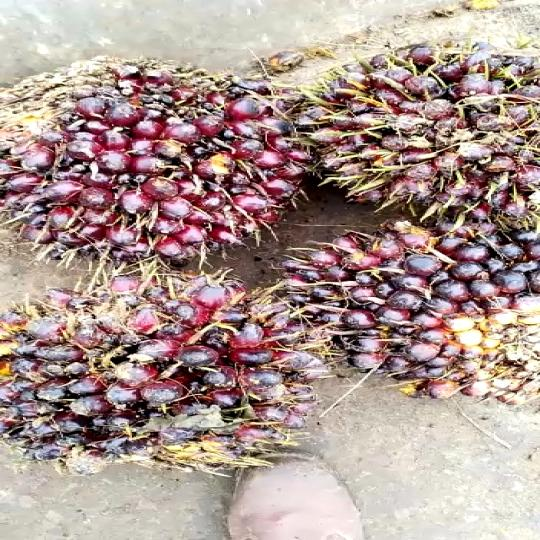kurang masak: (0, 258, 324, 494), (229, 186, 540, 427), (4, 55, 277, 314), (256, 29, 540, 242)
